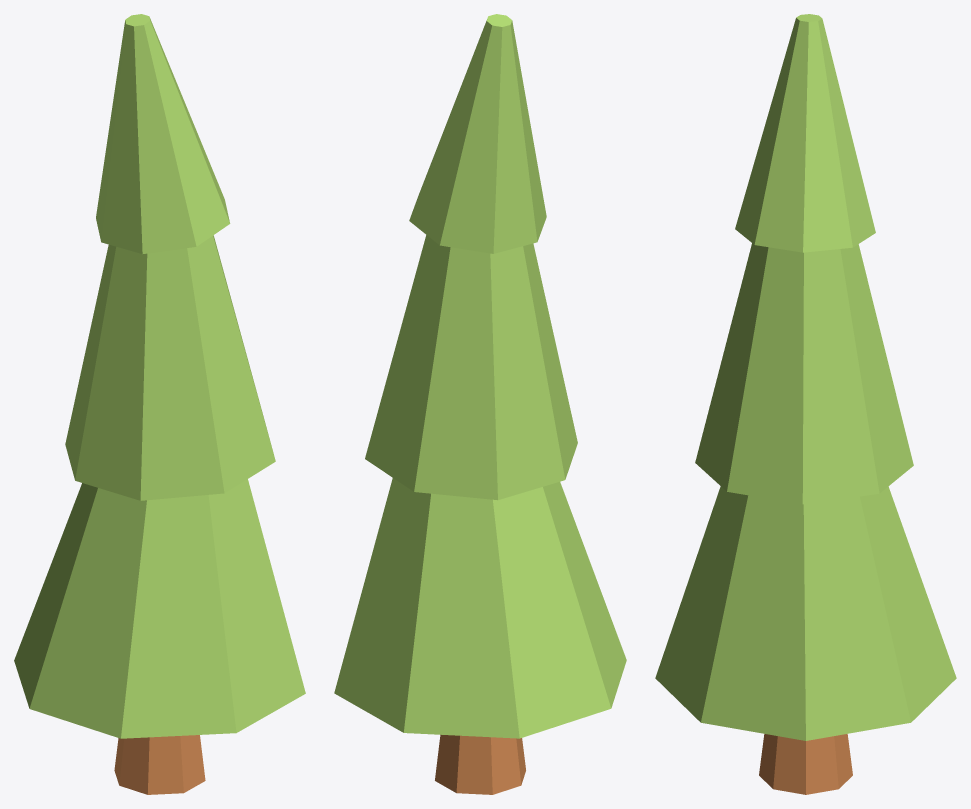
Rendered from tree_1.gltf.
The picture shows the model from 3 angles, left to right: view 1: azimuth 30°, elevation 25°; view 2: azimuth 150°, elevation 25°; view 3: azimuth 270°, elevation 25°; orthographic projection.
Visible parts, largest first — view 1: Plane; view 2: Plane; view 3: Plane.
Boxes of the visible parts, <box> form: Plane: <box>14,14,305,794</box>; Plane: <box>334,14,626,794</box>; Plane: <box>655,14,956,794</box>.
Bounding box in the file's own units: 1.64 × 4.56 × 1.66.
